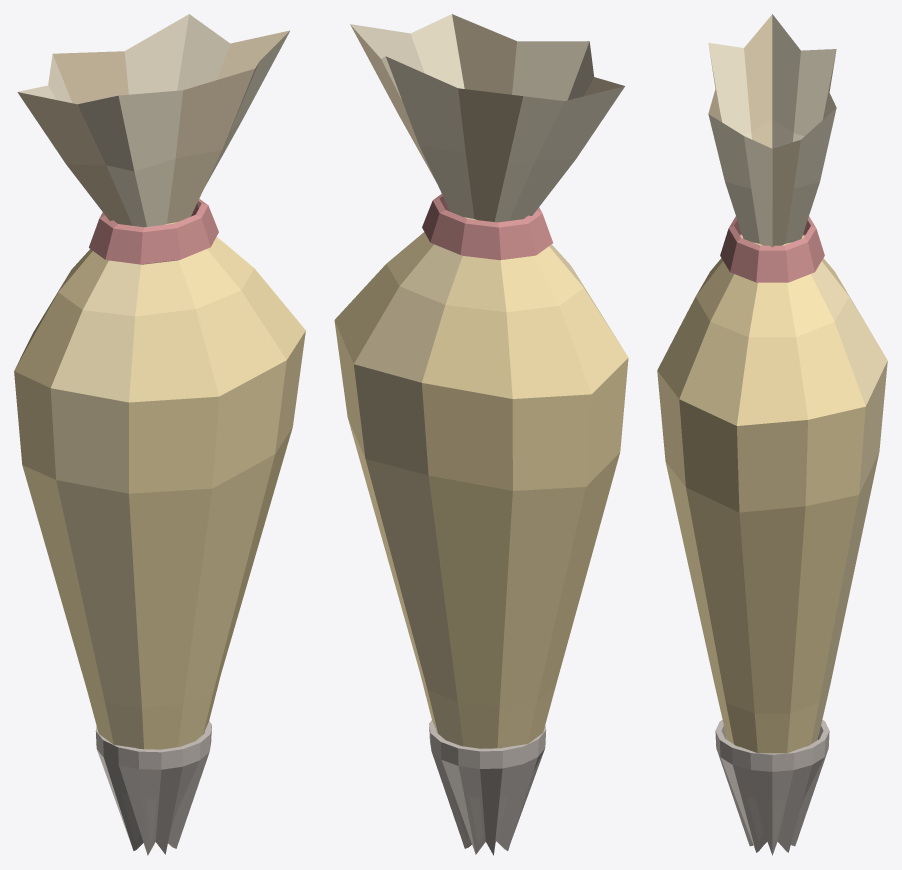
The model's file is 07-piping-bag.glb.
The picture shows the model from 3 angles, left to right: view 1: azimuth 30°, elevation 25°; view 2: azimuth 150°, elevation 25°; view 3: azimuth 270°, elevation 25°; orthographic projection. The views are drawn at different scales.
Parts seen in each view (by area): view 1: 01 Faceted cream piping bag, 03 Pleated open bag tail, 04 Hollow eight point star nozzle, 02 Pink gathered band; view 2: 01 Faceted cream piping bag, 03 Pleated open bag tail, 04 Hollow eight point star nozzle, 02 Pink gathered band; view 3: 01 Faceted cream piping bag, 03 Pleated open bag tail, 04 Hollow eight point star nozzle, 02 Pink gathered band.
Boxes of the visible parts, left/top/right/bottom form: 01 Faceted cream piping bag: left=14, top=222, right=305, bottom=749; 03 Pleated open bag tail: left=17, top=14, right=290, bottom=227; 04 Hollow eight point star nozzle: left=95, top=721, right=211, bottom=855; 02 Pink gathered band: left=89, top=199, right=218, bottom=264; 01 Faceted cream piping bag: left=334, top=217, right=628, bottom=748; 03 Pleated open bag tail: left=350, top=14, right=624, bottom=222; 04 Hollow eight point star nozzle: left=429, top=720, right=546, bottom=855; 02 Pink gathered band: left=422, top=194, right=552, bottom=260; 01 Faceted cream piping bag: left=657, top=236, right=887, bottom=753; 03 Pleated open bag tail: left=708, top=14, right=836, bottom=247; 04 Hollow eight point star nozzle: left=715, top=720, right=829, bottom=855; 02 Pink gathered band: left=720, top=216, right=824, bottom=282.
Bounding box in the file's own units: 1.12 × 3.1 × 0.84.
